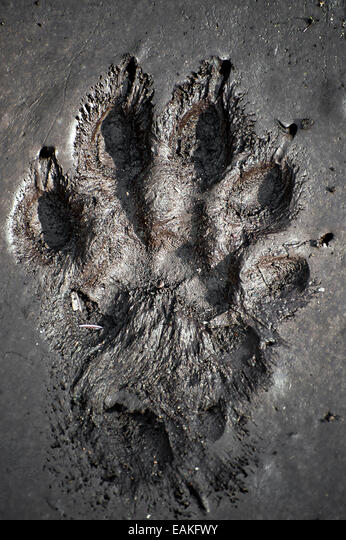bear: (13, 28, 322, 519)
